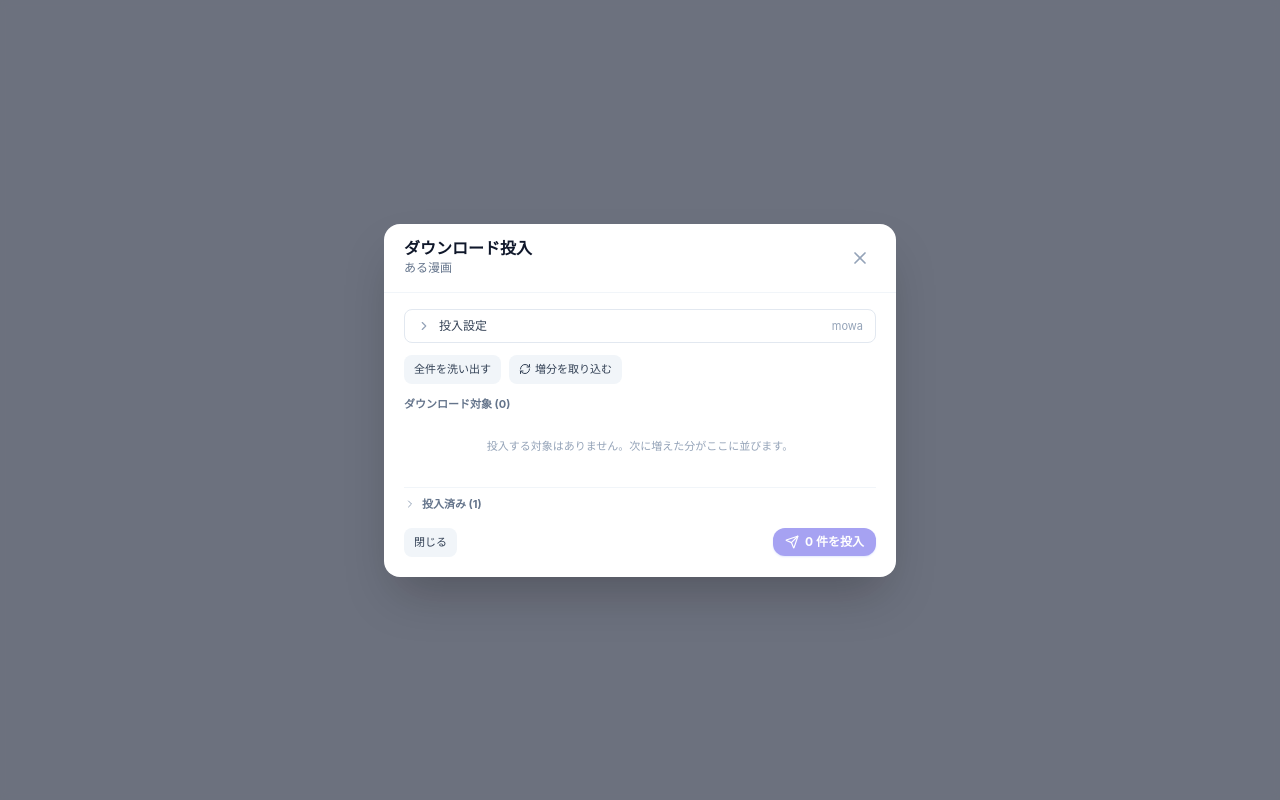
Test: 投入済みの再投入 › 巻数を読めない行は「ジョブなし」とは言わない
This screenshot has width=1280, height=800.
What coordinates should you click on to do the following:
click the button "投入済み (1)"
I would click on:
 (443, 504)
Its box is [404,496,482,512].
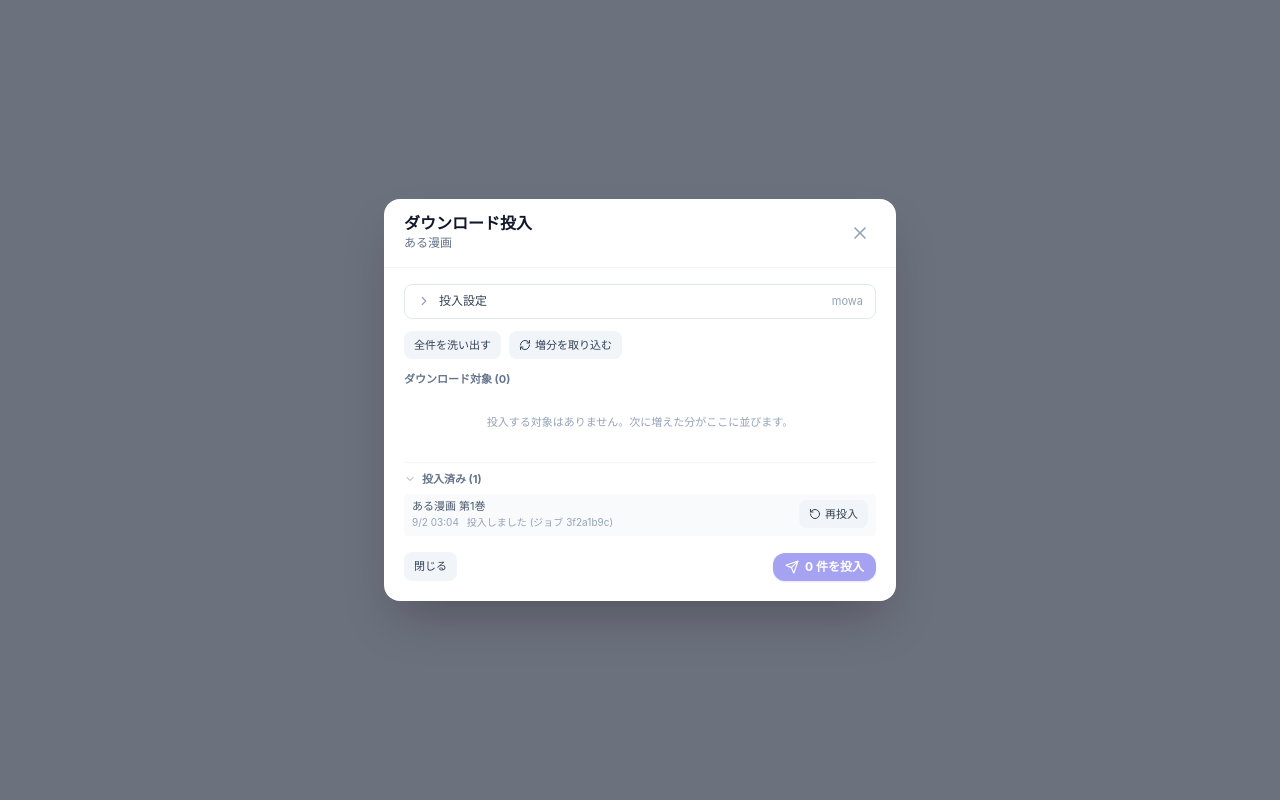
Expected: the button "再投入" is shown, [799,500,868,528]
